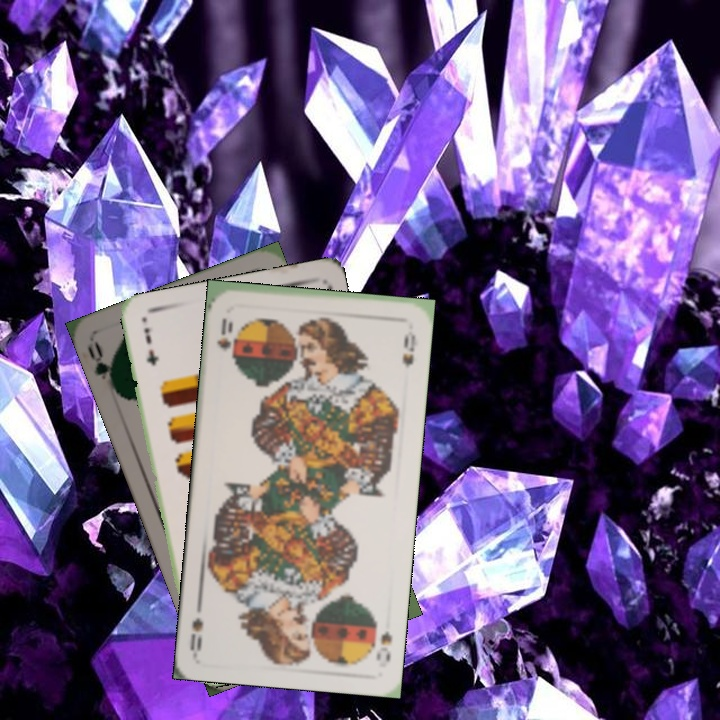E7: (140, 323, 162, 368)
GO: (83, 338, 119, 394)
SO: (212, 314, 237, 361), (372, 627, 394, 665)
